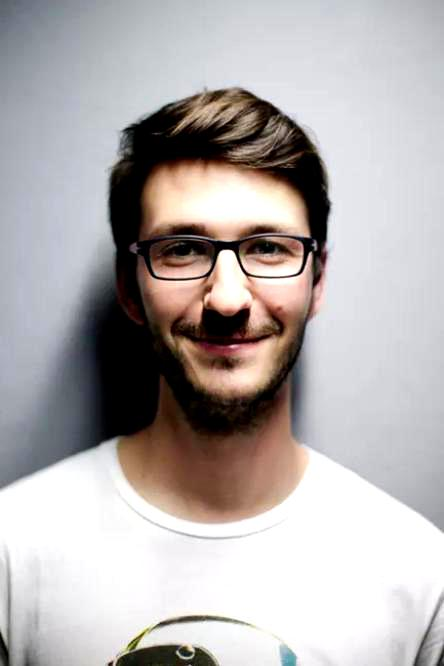face: (137, 163, 313, 406)
